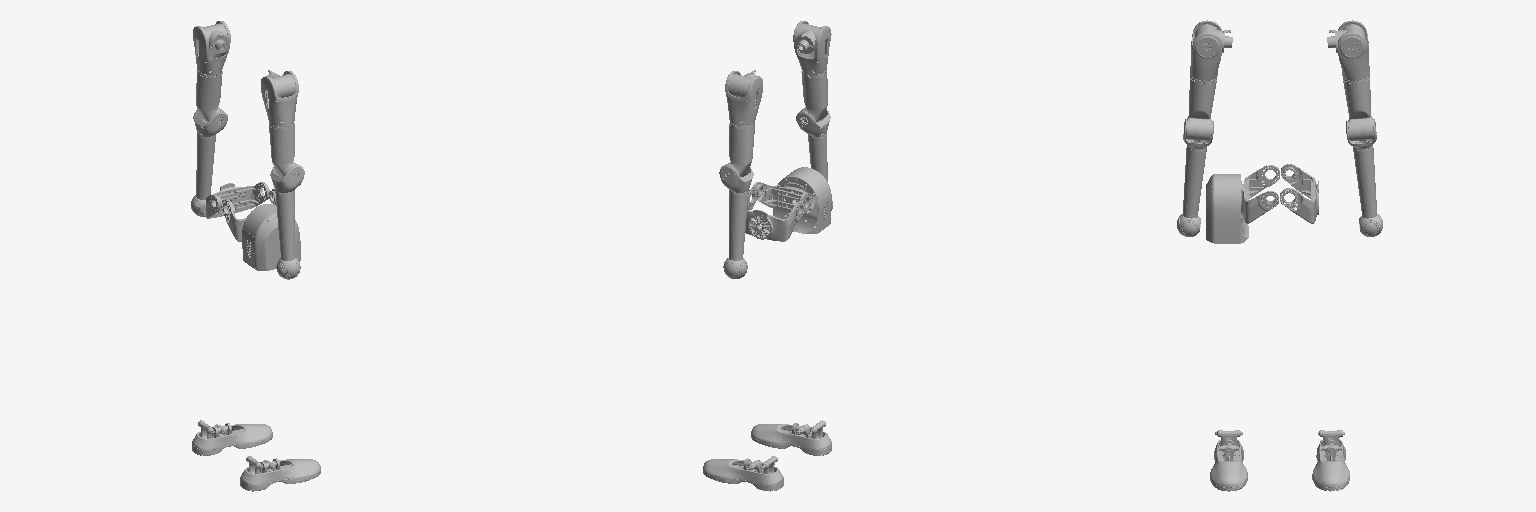
--- Render facts (derived) ---
The picture shows the robot from 3 angles, left to right: view 1: azimuth 30°, elevation 25°; view 2: azimuth 150°, elevation 25°; view 3: azimuth 270°, elevation 25°; orthographic projection.
Robot: humanoid — 21 links, 20 joints (20 revolute); root link pelvis; default pose: all joints at 0.
Visible links, largest first — view 1: hip_pitch_r_link, elbow_pitch_r_link, elbow_pitch_l_link, ankle_roll_r_link, ankle_roll_l_link, hip_roll_l_link, shoulder_roll_r_link, shoulder_yaw_r_link, shoulder_roll_l_link, shoulder_yaw_l_link, hip_roll_r_link, shoulder_pitch_l_link; view 2: elbow_pitch_l_link, ankle_roll_l_link, ankle_roll_r_link, hip_pitch_r_link, hip_roll_l_link, hip_roll_r_link, elbow_pitch_r_link, shoulder_roll_l_link, shoulder_yaw_l_link, shoulder_roll_r_link, shoulder_yaw_r_link, shoulder_pitch_r_link; view 3: hip_pitch_r_link, elbow_pitch_l_link, elbow_pitch_r_link, ankle_roll_r_link, ankle_roll_l_link, shoulder_yaw_l_link, shoulder_yaw_r_link, hip_roll_l_link, shoulder_roll_l_link, shoulder_roll_r_link, hip_roll_r_link.
Boxes of the visible links, x1,y1,x2,y2 form: hip_pitch_r_link: (242, 204, 300, 270); elbow_pitch_r_link: (270, 165, 304, 279); elbow_pitch_l_link: (191, 109, 227, 216); ankle_roll_r_link: (240, 456, 320, 491); ankle_roll_l_link: (192, 420, 272, 455); hip_roll_l_link: (206, 182, 269, 218); shoulder_roll_r_link: (261, 71, 298, 125); shoulder_yaw_r_link: (269, 123, 297, 176); shoulder_roll_l_link: (193, 21, 230, 74); shoulder_yaw_l_link: (196, 70, 223, 121); hip_roll_r_link: (222, 189, 275, 241); shoulder_pitch_l_link: (203, 23, 228, 53); elbow_pitch_l_link: (719, 165, 753, 278); ankle_roll_l_link: (703, 456, 783, 491); ankle_roll_r_link: (751, 420, 831, 455); hip_pitch_r_link: (773, 167, 831, 233); hip_roll_l_link: (745, 188, 804, 241); hip_roll_r_link: (752, 182, 817, 218); elbow_pitch_r_link: (796, 109, 832, 210); shoulder_roll_l_link: (725, 71, 762, 125); shoulder_yaw_l_link: (726, 123, 754, 176); shoulder_roll_r_link: (793, 21, 831, 74); shoulder_yaw_r_link: (800, 70, 827, 121); shoulder_pitch_r_link: (795, 23, 820, 53); hip_pitch_r_link: (1206, 174, 1248, 243); elbow_pitch_l_link: (1346, 119, 1382, 236); elbow_pitch_r_link: (1177, 119, 1213, 236); ankle_roll_r_link: (1210, 430, 1247, 491); ankle_roll_l_link: (1312, 430, 1349, 491); shoulder_yaw_l_link: (1343, 75, 1373, 140); shoulder_yaw_r_link: (1186, 75, 1216, 140); hip_roll_l_link: (1280, 164, 1318, 223); shoulder_roll_l_link: (1338, 20, 1369, 80); shoulder_roll_r_link: (1190, 20, 1221, 80); hip_roll_r_link: (1241, 165, 1279, 223).
Bounding box of the posed robot: 0.2756 × 0.6048 × 1.42 m (x, y, z).
Meshes: 21 distinct files referenced, 15 mesh visuals loaded (15 binary STL); not drawn: 6 (reference not matched to a file when rendering).

robot.urdf — humanoid:
<?xml version="1.0" encoding="utf-8"?>
<!-- This URDF was automatically created by SolidWorks to URDF Exporter! Originally created by Stephen Brawner ([email redacted]) 
     Commit Version: 1.6.0-4-g7f85cfe  Build Version: 1.6.7995.38578
     For more information, please see http://wiki.ros.org/sw_urdf_exporter -->
<robot
  name="humanoid">
  <link
    name="pelvis">
    <inertial>
      <origin
        xyz="0.001537 0.000283 0.177608"
        rpy="0 0 0" />
      <mass
        value="27.771712" />
      <inertia
        ixx="0.951691"
        ixy="-0.003894"
        ixz="-0.023254"
        iyy="0.922523"
        iyz="0.001565"
        izz="0.197666" />
    </inertial>
    <visual>
      <origin
        xyz="0 0 0"
        rpy="0 0 0" />
      <geometry>
        <mesh
          filename="package://walker_tienkung_description/meshes/pelvis.STL" />
      </geometry>
      <material
        name="">
        <color
          rgba="0.752941176470588 0.752941176470588 0.752941176470588 1" />
      </material>
    </visual>
    <collision>
      <origin
        xyz="0 0 0"
        rpy="0 0 0" />
      <geometry>
        <mesh
          filename="package://walker_tienkung_description/meshes/pelvis.STL" />
      </geometry>
    </collision>
  </link>
  <link
    name="hip_roll_l_link">
    <inertial>
      <origin
        xyz="-0.001848 0.055849 -0.036017"
        rpy="0 0 0" />
      <mass
        value="0.672983" />
      <inertia
        ixx="0.001020"
        ixy="-0.000070"
        ixz="0.000038"
        iyy="0.003221"
        iyz="0.000281"
        izz="0.003272" />
    </inertial>
    <visual>
      <origin
        xyz="0 0 0"
        rpy="0 0 0" />
      <geometry>
        <mesh
          filename="package://walker_tienkung_description/meshes/hip_roll_l_link.STL" />
      </geometry>
      <material
        name="">
        <color
          rgba="0.752941176470588 0.752941176470588 0.752941176470588 1" />
      </material>
    </visual>
    <collision>
      <origin
        xyz="0 0 0"
        rpy="0 0 0" />
      <geometry>
        <mesh
          filename="package://walker_tienkung_description/meshes/hip_roll_l_link.STL" />
      </geometry>
    </collision>
  </link>
  <joint
    name="hip_roll_l_joint"
    type="revolute">
    <origin
      xyz="0 0.028 -0.0857"
      rpy="0 0 0" />
    <parent
      link="pelvis" />
    <child
      link="hip_roll_l_link" />
    <axis
      xyz="1 0 0" />
    <limit effort="180" lower="-0.79" upper="0.79" velocity="15.6"/>
  </joint>
  <link
    name="hip_pitch_l_link">
    <inertial>
      <origin
        xyz="0.001081 -0.000088 -0.013133"
        rpy="0 0 0" />
      <mass
        value="3.951912" />
      <inertia
        ixx="0.010841"
        ixy="-0.000027"
        ixz="0.000234"
        iyy="0.015597"
        iyz="0.000123"
        izz="0.009340" />
    </inertial>
    <visual>
      <origin
        xyz="0 0 0"
        rpy="0 0 0" />
      <geometry>
        <mesh
          filename="package://walker_tienkung_description/meshes/hip_pitch_l_link.STL" />
      </geometry>
      <material
        name="">
        <color
          rgba="0.752941176470588 0.752941176470588 0.752941176470588 1" />
      </material>
    </visual>
    <collision>
      <origin
        xyz="0 0 0"
        rpy="0 0 0" />
      <geometry>
        <mesh
          filename="package://walker_tienkung_description/meshes/hip_pitch_l_link.STL" />
      </geometry>
    </collision>
  </link>
  <joint
    name="hip_pitch_l_joint"
    type="revolute">
    <origin
      xyz="0 0.122 -0.046"
      rpy="0 0 0" />
    <parent
      link="hip_roll_l_link" />
    <child
      link="hip_pitch_l_link" />
    <axis
      xyz="0 1 0" />
    <limit effort="300" lower="-2.79" upper="2.09" velocity="15.6"/>
  </joint>
  <link
    name="hip_yaw_l_link">
    <inertial>
      <origin
        xyz="0.004102 -0.006542 -0.121068"
        rpy="0 0 0" />
      <mass
        value="6.670795" />
      <inertia
        ixx="0.049573"
        ixy="-0.000228"
        ixz="-0.000044"
        iyy="0.053307"
        iyz="-0.001401"
        izz="0.017924" />
    </inertial>
    <visual>
      <origin
        xyz="0 0 0"
        rpy="0 0 0" />
      <geometry>
        <mesh
          filename="package://walker_tienkung_description/meshes/hip_yaw_l_link.STL" />
      </geometry>
      <material
        name="">
        <color
          rgba="0.752941176470588 0.752941176470588 0.752941176470588 1" />
      </material>
    </visual>
    <collision>
      <origin
        xyz="0 0 0"
        rpy="0 0 0" />
      <geometry>
        <mesh
          filename="package://walker_tienkung_description/meshes/hip_yaw_l_link.STL" />
      </geometry>
    </collision>
  </link>
  <joint
    name="hip_yaw_l_joint"
    type="revolute">
    <origin
      xyz="0 -0.00015 -0.0987"
      rpy="0 0 0" />
    <parent
      link="hip_pitch_l_link" />
    <child
      link="hip_yaw_l_link" />
    <axis
      xyz="0 0 1" />
    <limit effort="180" lower="-1.04" upper="1.04" velocity="15.6"/>  
  </joint>
  <link
    name="knee_pitch_l_link">
    <inertial>
      <origin
        xyz="0.000180 0.001915 -0.178653"
        rpy="0 0 0" />
      <mass
        value="2.312685" />
      <inertia
        ixx="0.030244"
        ixy="-0.000010"
        ixz="-0.002398"
        iyy="0.030910"
        iyz="-0.000689"
        izz="0.002922" />
    </inertial>
    <visual>
      <origin
        xyz="0 0 0"
        rpy="0 0 0" />
      <geometry>
        <mesh
          filename="package://walker_tienkung_description/meshes/knee_pitch_l_link.STL" />
      </geometry>
      <material
        name="">
        <color
          rgba="0.752941176470588 0.752941176470588 0.752941176470588 1" />
      </material>
    </visual>
    <collision>
      <origin
        xyz="0 0 0"
        rpy="0 0 0" />
      <geometry>
        <mesh
          filename="package://walker_tienkung_description/meshes/knee_pitch_l_link.STL" />
      </geometry>
    </collision>
  </link>
  <joint
    name="knee_pitch_l_joint"
    type="revolute">
    <origin
      xyz="0 0.00010715 -0.3013"
      rpy="0 0 0" />
    <parent
      link="hip_yaw_l_link" />
    <child
      link="knee_pitch_l_link" />
    <axis
      xyz="0 1 0" />
    <limit effort="300" lower="0.0" upper="2.39" velocity="15.6"/>
  </joint>
  <link
    name="ankle_pitch_l_link">
    <inertial>
      <origin
        xyz="0 0 0"
        rpy="0 0 0" />
      <mass
        value="0.111609" />
      <inertia
        ixx="0.000018"
        ixy="0"
        ixz="0"
        iyy="0.000018"
        iyz="0"
        izz="0.000032" />
    </inertial>
    <visual>
      <origin
        xyz="0 0 0"
        rpy="0 0 0" />
      <geometry>
        <mesh
          filename="package://walker_tienkung_description/meshes/ankle_pitch_l_link.STL" />
      </geometry>
      <material
        name="">
        <color
          rgba="0.752941176470588 0.752941176470588 0.752941176470588 1" />
      </material>
    </visual>
    <collision>
      <origin
        xyz="0 0 0"
        rpy="0 0 0" />
      <geometry>
        <mesh
          filename="package://walker_tienkung_description/meshes/ankle_pitch_l_link.STL" />
      </geometry>
    </collision>
  </link>
  <joint
    name="ankle_pitch_l_joint"
    type="revolute">
    <origin
      xyz="0 0 -0.4"
      rpy="0 0 0" />
    <parent
      link="knee_pitch_l_link" />
    <child
      link="ankle_pitch_l_link" />
    <axis
      xyz="0 1 0" />
    <limit effort="60" lower="-1.22" upper="0.5236" velocity="12.8"/>
  </joint>
  <link
    name="ankle_roll_l_link">
    <inertial>
      <origin
        xyz="0.021235 0.000000 -0.032883"
        rpy="0 0 0" />
      <mass
        value="1.017381" />
      <inertia
        ixx="0.001028"
        ixy="0.000000"
        ixz="0.000622"
        iyy="0.006055"
        iyz="0.000000"
        izz="0.006240" />
    </inertial>
    <visual>
      <origin
        xyz="0 0 0"
        rpy="0 0 0" />
      <geometry>
        <mesh
          filename="package://walker_tienkung_description/meshes/ankle_roll_l_link.STL" />
      </geometry>
      <material
        name="">
        <color
          rgba="0.752941176470588 0.752941176470588 0.752941176470588 1" />
      </material>
    </visual>
    <collision>
      <origin
        xyz="0 0 0"
        rpy="0 0 0" />
      <geometry>
        <mesh
          filename="package://walker_tienkung_description/meshes/ankle_roll_l_link.STL" />
      </geometry>
    </collision>
  </link>
  <joint
    name="ankle_roll_l_joint"
    type="revolute">
    <origin
      xyz="0 0 0"
      rpy="0 0 0" />
    <parent
      link="ankle_pitch_l_link" />
    <child
      link="ankle_roll_l_link" />
    <axis
      xyz="1 0 0" />
    <limit effort="30" lower="-0.4363" upper="0.4363" velocity="7.8"/>
  </joint>
  <link
    name="hip_roll_r_link">
    <inertial>
      <origin
        xyz="-0.001848 -0.055849 -0.036017"
        rpy="0 0 0" />
      <mass
        value="0.672983" />
      <inertia
        ixx="0.001020"
        ixy="0.000070"
        ixz="0.000038"
        iyy="0.003221"
        iyz="-0.000281"
        izz="0.003272" />
    </inertial>
    <visual>
      <origin
        xyz="0 0 0"
        rpy="0 0 0" />
      <geometry>
        <mesh
          filename="package://walker_tienkung_description/meshes/hip_roll_r_link.STL" />
      </geometry>
      <material
        name="">
        <color
          rgba="0.752941176470588 0.752941176470588 0.752941176470588 1" />
      </material>
    </visual>
    <collision>
      <origin
        xyz="0 0 0"
        rpy="0 0 0" />
      <geometry>
        <mesh
          filename="package://walker_tienkung_description/meshes/hip_roll_r_link.STL" />
      </geometry>
    </collision>
  </link>
  <joint
    name="hip_roll_r_joint"
    type="revolute">
    <origin
      xyz="0 -0.028 -0.0857"
      rpy="0 0 0" />
    <parent
      link="pelvis" />
    <child
      link="hip_roll_r_link" />
    <axis
      xyz="1 0 0" />
    <limit effort="180" lower="-0.79" upper="0.79" velocity="15.6"/>
  </joint>
  <link
    name="hip_pitch_r_link">
    <inertial>
      <origin
        xyz="0.001081 0.000088 -0.013133"
        rpy="0 0 0" />
      <mass
        value="3.951912" />
      <inertia
        ixx="0.010841"
        ixy="0.000027"
        ixz="0.000234"
        iyy="0.015597"
        iyz="-0.000123"
        izz="0.009340" />
    </inertial>
    <visual>
      <origin
        xyz="0 0 0"
        rpy="0 0 0" />
      <geometry>
        <mesh
          filename="package://walker_tienkung_description/meshes/hip_pitch_r_link.STL" />
      </geometry>
      <material
        name="">
        <color
          rgba="0.752941176470588 0.752941176470588 0.752941176470588 1" />
      </material>
    </visual>
    <collision>
      <origin
        xyz="0 0 0"
        rpy="0 0 0" />
      <geometry>
        <mesh
          filename="package://walker_tienkung_description/meshes/hip_pitch_r_link.STL" />
      </geometry>
    </collision>
  </link>
  <joint
    name="hip_pitch_r_joint"
    type="revolute">
    <origin
      xyz="0 -0.122 -0.046"
      rpy="0 0 0" />
    <parent
      link="hip_roll_r_link" />
    <child
      link="hip_pitch_r_link" />
    <axis
      xyz="0 1 0" />
    <limit effort="300" lower="-2.79" upper="2.09" velocity="15.6"/>
  </joint>
  <link
    name="hip_yaw_r_link">
    <inertial>
      <origin
        xyz="0.004102 0.006542 -0.121068"
        rpy="0 0 0" />
      <mass
        value="6.670795" />
      <inertia
        ixx="0.049573"
        ixy="0.000228"
        ixz="-0.000044"
        iyy="0.053307"
        iyz="0.001401"
        izz="0.017924" />
    </inertial>
    <visual>
      <origin
        xyz="0 0 0"
        rpy="0 0 0" />
      <geometry>
        <mesh
          filename="package://walker_tienkung_description/meshes/hip_yaw_r_link.STL" />
      </geometry>
      <material
        name="">
        <color
          rgba="0.752941176470588 0.752941176470588 0.752941176470588 1" />
      </material>
    </visual>
    <collision>
      <origin
        xyz="0 0 0"
        rpy="0 0 0" />
      <geometry>
        <mesh
          filename="package://walker_tienkung_description/meshes/hip_yaw_r_link.STL" />
      </geometry>
    </collision>
  </link>
  <joint
    name="hip_yaw_r_joint"
    type="revolute">
    <origin
      xyz="0 0 -0.0987"
      rpy="0 0 0" />
    <parent
      link="hip_pitch_r_link" />
    <child
      link="hip_yaw_r_link" />
    <axis
      xyz="0 0 1" />
    <limit effort="180" lower="-1.04" upper="1.04" velocity="15.6"/>  
  </joint>
  <link
    name="knee_pitch_r_link">
    <inertial>
      <origin
        xyz="0.000180 -0.001915 -0.178653"
        rpy="0 0 0" />
      <mass
        value="2.312685" />
      <inertia
        ixx="0.030244"
        ixy="0.000010"
        ixz="-0.002398"
        iyy="0.030910"
        iyz="0.000689"
        izz="0.002922" />
    </inertial>
    <visual>
      <origin
        xyz="0 0 0"
        rpy="0 0 0" />
      <geometry>
        <mesh
          filename="package://walker_tienkung_description/meshes/knee_pitch_r_link.STL" />
      </geometry>
      <material
        name="">
        <color
          rgba="0.752941176470588 0.752941176470588 0.752941176470588 1" />
      </material>
    </visual>
    <collision>
      <origin
        xyz="0 0 0"
        rpy="0 0 0" />
      <geometry>
        <mesh
          filename="package://walker_tienkung_description/meshes/knee_pitch_r_link.STL" />
      </geometry>
    </collision>
  </link>
  <joint
    name="knee_pitch_r_joint"
    type="revolute">
    <origin
      xyz="0 0.00035002 -0.3013"
      rpy="0 0 0" />
    <parent
      link="hip_yaw_r_link" />
    <child
      link="knee_pitch_r_link" />
    <axis
      xyz="0 1 0" />
    <limit effort="300" lower="0.0" upper="2.39" velocity="15.6"/>
  </joint>
  <link
    name="ankle_pitch_r_link">
    <inertial>
      <origin
        xyz="0 0 0"
        rpy="0 0 0" />
      <mass
        value="0.111609" />
      <inertia
        ixx="0.000018"
        ixy="0"
        ixz="0"
        iyy="0.000018"
        iyz="0"
        izz="0.000032" />
    </inertial>
    <visual>
      <origin
        xyz="0 0 0"
        rpy="0 0 0" />
      <geometry>
        <mesh
          filename="package://walker_tienkung_description/meshes/ankle_pitch_r_link.STL" />
      </geometry>
      <material
        name="">
        <color
          rgba="0.752941176470588 0.752941176470588 0.752941176470588 1" />
      </material>
    </visual>
    <collision>
      <origin
        xyz="0 0 0"
        rpy="0 0 0" />
      <geometry>
        <mesh
          filename="package://walker_tienkung_description/meshes/ankle_pitch_r_link.STL" />
      </geometry>
    </collision>
  </link>
  <joint
    name="ankle_pitch_r_joint"
    type="revolute">
    <origin
      xyz="0 0.00074981 -0.4"
      rpy="0 0 0" />
    <parent
      link="knee_pitch_r_link" />
    <child
      link="ankle_pitch_r_link" />
    <axis
      xyz="0 1 0" />
    <limit effort="60" lower="-1.22" upper="0.5236" velocity="12.8"/>
  </joint>
  <link
    name="ankle_roll_r_link">
    <inertial>
      <origin
        xyz="0.021235 0.000000 -0.032883"
        rpy="0 0 0" />
      <mass
        value="1.017381" />
      <inertia
        ixx="0.001028"
        ixy="0.000000"
        ixz="0.000622"
        iyy="0.006055"
        iyz="0.000000"
        izz="0.006240" />
    </inertial>
    <visual>
      <origin
        xyz="0 0 0"
        rpy="0 0 0" />
      <geometry>
        <mesh
          filename="package://walker_tienkung_description/meshes/ankle_roll_r_link.STL" />
      </geometry>
      <material
        name="">
        <color
          rgba="0.752941176470588 0.752941176470588 0.752941176470588 1" />
      </material>
    </visual>
    <collision>
      <origin
        xyz="0 0 0"
        rpy="0 0 0" />
      <geometry>
        <mesh
          filename="package://walker_tienkung_description/meshes/ankle_roll_r_link.STL" />
      </geometry>
    </collision>
  </link>
  <joint
    name="ankle_roll_r_joint"
    type="revolute">
    <origin
      xyz="0 0 0"
      rpy="0 0 0" />
    <parent
      link="ankle_pitch_r_link" />
    <child
      link="ankle_roll_r_link" />
    <axis
      xyz="1 0 0" />
    <limit effort="30" lower="-0.4363" upper="0.4363" velocity="7.8"/>
  </joint>
  <link
    name="shoulder_pitch_l_link">
    <inertial>
      <origin
        xyz="0.006486 0.068343 0.000219"
        rpy="0 0 0" />
      <mass
        value="0.469057" />
      <inertia
        ixx="0.000401"
        ixy="-0.000015"
        ixz="0.000001"
        iyy="0.000368"
        iyz="0.000003"
        izz="0.000468" />
    </inertial>
    <visual>
      <origin
        xyz="0 0 0"
        rpy="0 0 0" />
      <geometry>
        <mesh
          filename="package://walker_tienkung_description/meshes/shoulder_pitch_l_link.STL" />
      </geometry>
      <material
        name="">
        <color
          rgba="0.752941176470588 0.752941176470588 0.752941176470588 1" />
      </material>
    </visual>
    <collision>
      <origin
        xyz="0 0 0"
        rpy="0 0 0" />
      <geometry>
        <mesh
          filename="package://walker_tienkung_description/meshes/shoulder_pitch_l_link.STL" />
      </geometry>
    </collision>
  </link>
  <joint
    name="shoulder_pitch_l_joint"
    type="revolute">
    <origin
      xyz="0 0.14034 0.37677"
      rpy="0.087266 0 0" />
    <parent
      link="pelvis" />
    <child
      link="shoulder_pitch_l_link" />
    <axis
      xyz="0 1 0" />
    <limit effort="52.5" lower="-2.96" upper="2.96" velocity="14.1"/>
  </joint>
  <link
    name="shoulder_roll_l_link">
    <inertial>
      <origin
        xyz="-0.000165 0.001557 -0.049098"
        rpy="0 0 0" />
      <mass
        value="0.298029" />
      <inertia
        ixx="0.000881"
        ixy="0.000000"
        ixz="0.000004"
        iyy="0.000998"
        iyz="-0.000019"
        izz="0.000574" />
    </inertial>
    <visual>
      <origin
        xyz="0 0 0"
        rpy="0 0 0" />
      <geometry>
        <mesh
          filename="package://walker_tienkung_description/meshes/shoulder_roll_l_link.STL" />
      </geometry>
      <material
        name="">
        <color
          rgba="0.752941176470588 0.752941176470588 0.752941176470588 1" />
      </material>
    </visual>
    <collision>
      <origin
        xyz="0 0 0"
        rpy="0 0 0" />
      <geometry>
        <mesh
          filename="package://walker_tienkung_description/meshes/shoulder_roll_l_link.STL" />
      </geometry>
    </collision>
  </link>
  <joint
    name="shoulder_roll_l_joint"
    type="revolute">
    <origin
      xyz="0 0.073 0"
      rpy="0 0 0" />
    <parent
      link="shoulder_pitch_l_link" />
    <child
      link="shoulder_roll_l_link" />
    <axis
      xyz="1 0 0" />
    <limit effort="52.5" lower="-0.2618" upper="3.4" velocity="14.1"/>
  </joint>
  <link
    name="shoulder_yaw_l_link">
    <inertial>
      <origin
        xyz="0.008090 -0.001020 -0.082881"
        rpy="0 0 0" />
      <mass
        value="0.936080" />
      <inertia
        ixx="0.004118"
        ixy="0.000013"
        ixz="0.000506"
        iyy="0.004156"
        iyz="-0.000066"
        izz="0.000785" />
    </inertial>
    <visual>
      <origin
        xyz="0 0 0"
        rpy="0 0 0" />
      <geometry>
        <mesh
          filename="package://walker_tienkung_description/meshes/shoulder_yaw_l_link.STL" />
      </geometry>
      <material
        name="">
        <color
          rgba="0.752941176470588 0.752941176470588 0.752941176470588 1" />
      </material>
    </visual>
    <collision>
      <origin
        xyz="0 0 0"
        rpy="0 0 0" />
      <geometry>
        <mesh
          filename="package://walker_tienkung_description/meshes/shoulder_yaw_l_link.STL" />
      </geometry>
    </collision>
  </link>
  <joint
    name="shoulder_yaw_l_joint"
    type="revolute">
    <origin
      xyz="0 0 -0.13"
      rpy="0 0 0" />
    <parent
      link="shoulder_roll_l_link" />
    <child
      link="shoulder_yaw_l_link" />
    <axis
      xyz="0 0 1" />
    <limit effort="52.5" lower="-2.96" upper="2.96" velocity="14.1"/>
  </joint>
  <link
    name="elbow_pitch_l_link">
    <inertial>
      <origin
        xyz="-0.019072 0.000031 -0.195441"
        rpy="0 0 0" />
      <mass
        value="0.553799" />
      <inertia
        ixx="0.008486"
        ixy="0.000004"
        ixz="-0.000099"
        iyy="0.008444"
        iyz="0.000047"
        izz="0.000476" />
    </inertial>
    <visual>
      <origin
        xyz="0 0 0"
        rpy="0 0 0" />
      <geometry>
        <mesh
          filename="package://walker_tienkung_description/meshes/elbow_pitch_l_link.STL" />
      </geometry>
      <material
        name="">
        <color
          rgba="0.752941176470588 0.752941176470588 0.752941176470588 1" />
      </material>
    </visual>
    <collision>
      <origin
        xyz="0 0 0"
        rpy="0 0 0" />
      <geometry>
        <mesh
          filename="package://walker_tienkung_description/meshes/elbow_pitch_l_link.STL" />
      </geometry>
    </collision>
  </link>
  <joint
    name="elbow_pitch_l_joint"
    type="revolute">
    <origin
      xyz="0.019998 0 -0.15"
      rpy="0 0 0" />
    <parent
      link="shoulder_yaw_l_link" />
    <child
      link="elbow_pitch_l_link" />
    <axis
      xyz="0 1 0" />
    <limit effort="52.5" lower="-2.61" upper="0.261" velocity="14.1"/>
  </joint>
  <link
    name="shoulder_pitch_r_link">
    <inertial>
      <origin
        xyz="0.006486 -0.068343 0.000219"
        rpy="0 0 0" />
      <mass
        value="0.469057" />
      <inertia
        ixx="0.000401"
        ixy="0.000015"
        ixz="0.000001"
        iyy="0.000368"
        iyz="-0.000003"
        izz="0.000468" />
    </inertial>
    <visual>
      <origin
        xyz="0 0 0"
        rpy="0 0 0" />
      <geometry>
        <mesh
          filename="package://walker_tienkung_description/meshes/shoulder_pitch_r_link.STL" />
      </geometry>
      <material
        name="">
        <color
          rgba="0.752941176470588 0.752941176470588 0.752941176470588 1" />
      </material>
    </visual>
    <collision>
      <origin
        xyz="0 0 0"
        rpy="0 0 0" />
      <geometry>
        <mesh
          filename="package://walker_tienkung_description/meshes/shoulder_pitch_r_link.STL" />
      </geometry>
    </collision>
  </link>
  <joint
    name="shoulder_pitch_r_joint"
    type="revolute">
    <origin
      xyz="0 -0.14034 0.37677"
      rpy="-0.087266 0 0" />
    <parent
      link="pelvis" />
    <child
      link="shoulder_pitch_r_link" />
    <axis
      xyz="0 1 0" />
    <limit effort="52.5" lower="-2.96" upper="2.96" velocity="14.1"/>
  </joint>
  <link
    name="shoulder_roll_r_link">
    <inertial>
      <origin
        xyz="-0.000165 -0.001557 -0.049098"
        rpy="0 0 0" />
      <mass
        value="0.298029" />
      <inertia
        ixx="0.000881"
        ixy="0.000000"
        ixz="0.000004"
        iyy="0.000998"
        iyz="0.000019"
        izz="0.000574" />
    </inertial>
    <visual>
      <origin
        xyz="0 0 0"
        rpy="0 0 0" />
      <geometry>
        <mesh
          filename="package://walker_tienkung_description/meshes/shoulder_roll_r_link.STL" />
      </geometry>
      <material
        name="">
        <color
          rgba="0.752941176470588 0.752941176470588 0.752941176470588 1" />
      </material>
    </visual>
    <collision>
      <origin
        xyz="0 0 0"
        rpy="0 0 0" />
      <geometry>
        <mesh
          filename="package://walker_tienkung_description/meshes/shoulder_roll_r_link.STL" />
      </geometry>
    </collision>
  </link>
  <joint
    name="shoulder_roll_r_joint"
    type="revolute">
    <origin
      xyz="0 -0.073 0"
      rpy="0 0 0" />
    <parent
      link="shoulder_pitch_r_link" />
    <child
      link="shoulder_roll_r_link" />
    <axis
      xyz="1 0 0" />
    <limit effort="52.5" lower="-3.4" upper="0.2618" velocity="14.1"/>
  </joint>
  <link
    name="shoulder_yaw_r_link">
    <inertial>
      <origin
        xyz="0.008090 0.001020 -0.082881"
        rpy="0 0 0" />
      <mass
        value="0.936080" />
      <inertia
        ixx="0.004118"
        ixy="-0.000013"
        ixz="0.000506"
        iyy="0.004156"
        iyz="0.000066"
        izz="0.000785" />
    </inertial>
    <visual>
      <origin
        xyz="0 0 0"
        rpy="0 0 0" />
      <geometry>
        <mesh
          filename="package://walker_tienkung_description/meshes/shoulder_yaw_r_link.STL" />
      </geometry>
      <material
        name="">
        <color
          rgba="0.752941176470588 0.752941176470588 0.752941176470588 1" />
      </material>
    </visual>
    <collision>
      <origin
        xyz="0 0 0"
        rpy="0 0 0" />
      <geometry>
        <mesh
          filename="package://walker_tienkung_description/meshes/shoulder_yaw_r_link.STL" />
      </geometry>
    </collision>
  </link>
  <joint
    name="shoulder_yaw_r_joint"
    type="revolute">
    <origin
      xyz="0 0 -0.13"
      rpy="0 0 0" />
    <parent
      link="shoulder_roll_r_link" />
    <child
      link="shoulder_yaw_r_link" />
    <axis
      xyz="0 0 1" />
    <limit effort="52.5" lower="-2.96" upper="2.96" velocity="14.1"/>
  </joint>
  <link
    name="elbow_pitch_r_link">
    <inertial>
      <origin
        xyz="-0.019072 -0.000031 -0.195441"
        rpy="0 0 0" />
      <mass
        value="0.553799" />
      <inertia
        ixx="0.008486"
        ixy="-0.000004"
        ixz="-0.000099"
        iyy="0.008444"
        iyz="-0.000047"
        izz="0.000476" />
    </inertial>
    <visual>
      <origin
        xyz="0 0 0"
        rpy="0 0 0" />
      <geometry>
        <mesh
          filename="package://walker_tienkung_description/meshes/elbow_pitch_r_link.STL" />
      </geometry>
      <material
        name="">
        <color
          rgba="0.752941176470588 0.752941176470588 0.752941176470588 1" />
      </material>
    </visual>
    <collision>
      <origin
        xyz="0 0 0"
        rpy="0 0 0" />
      <geometry>
        <mesh
          filename="package://walker_tienkung_description/meshes/elbow_pitch_r_link.STL" />
      </geometry>
    </collision>
  </link>
  <joint
    name="elbow_pitch_r_joint"
    type="revolute">
    <origin
      xyz="0.020003 0 -0.15"
      rpy="0 0 0" />
    <parent
      link="shoulder_yaw_r_link" />
    <child
      link="elbow_pitch_r_link" />
    <axis
      xyz="0 1 0" />
    <limit effort="52.5" lower="-2.61" upper="0.261" velocity="14.1"/>
  </joint>
</robot>
